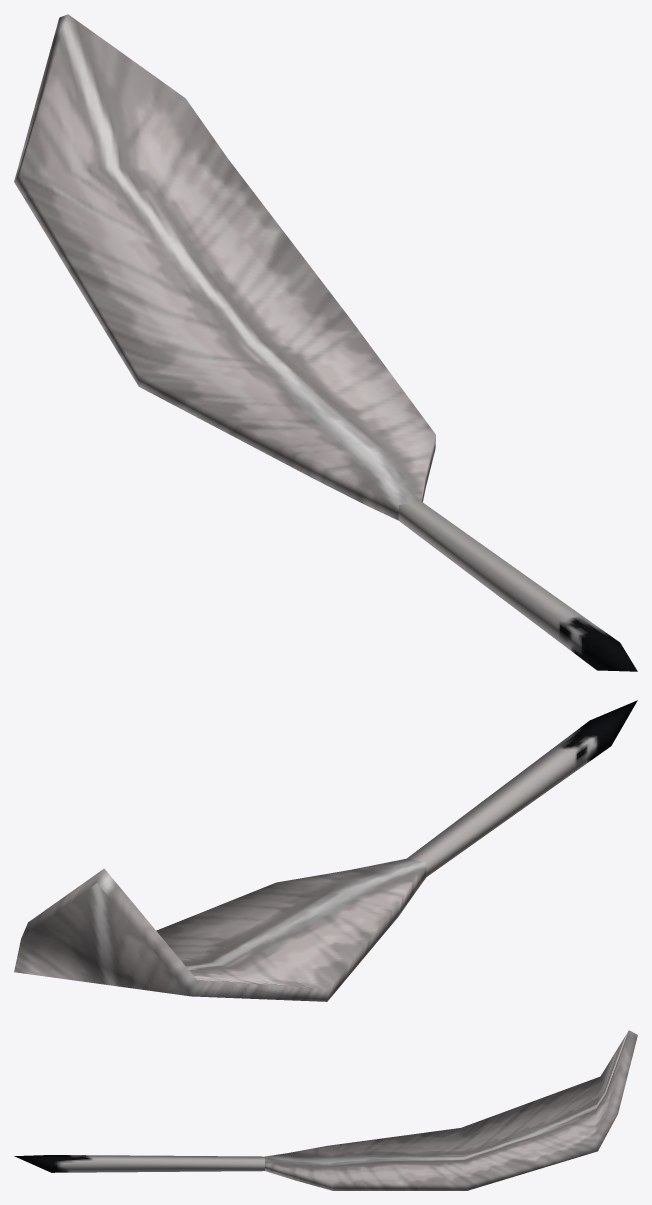
File: SM_PROP_featherpen_interior.fbx
3 views of the same model, one above another, from view 1: azimuth 30°, elevation 25°; view 2: azimuth 150°, elevation 25°; view 3: azimuth 270°, elevation 25° (orthographic). The views are drawn at different scales.
Visible parts, largest first — view 1: SM_PROP_featherpen_interior; view 2: SM_PROP_featherpen_interior; view 3: SM_PROP_featherpen_interior.
Boxes of the visible parts, box(x1,y1,x2,y2) form: SM_PROP_featherpen_interior: box(14, 14, 637, 671); SM_PROP_featherpen_interior: box(14, 700, 637, 1001); SM_PROP_featherpen_interior: box(14, 1030, 637, 1190).
Size of the model in its own units: 8.53 by 9.82 by 39.88.
